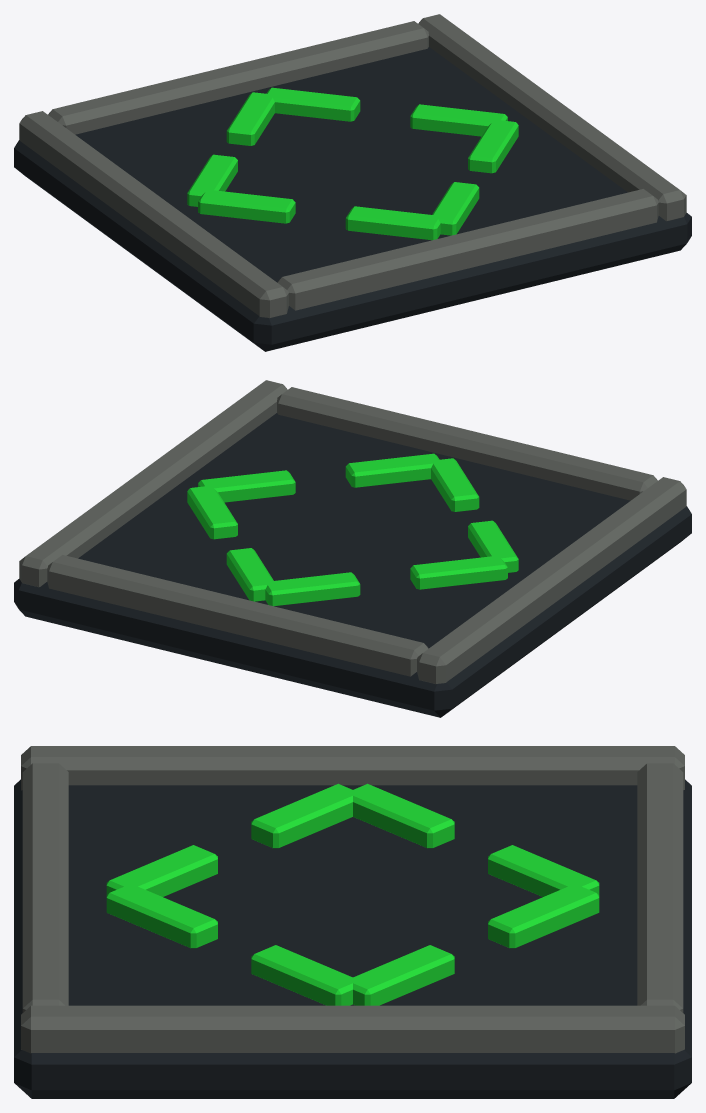
The model's file is terrain-force-50.glb.
3 renders of one model, top to bottom at view 1: azimuth 30°, elevation 25°; view 2: azimuth 150°, elevation 25°; view 3: azimuth 270°, elevation 25°, orthographic. The views are drawn at different scales.
Visible parts, largest first — view 1: terrain-force-50; view 2: terrain-force-50; view 3: terrain-force-50.
Part boxes in pixels (x1,y1,x2,y2): terrain-force-50: (14, 14, 691, 351); terrain-force-50: (14, 380, 691, 717); terrain-force-50: (14, 746, 691, 1098).
Bounding box in the file's own units: 0.96 × 0.1275 × 0.96.
